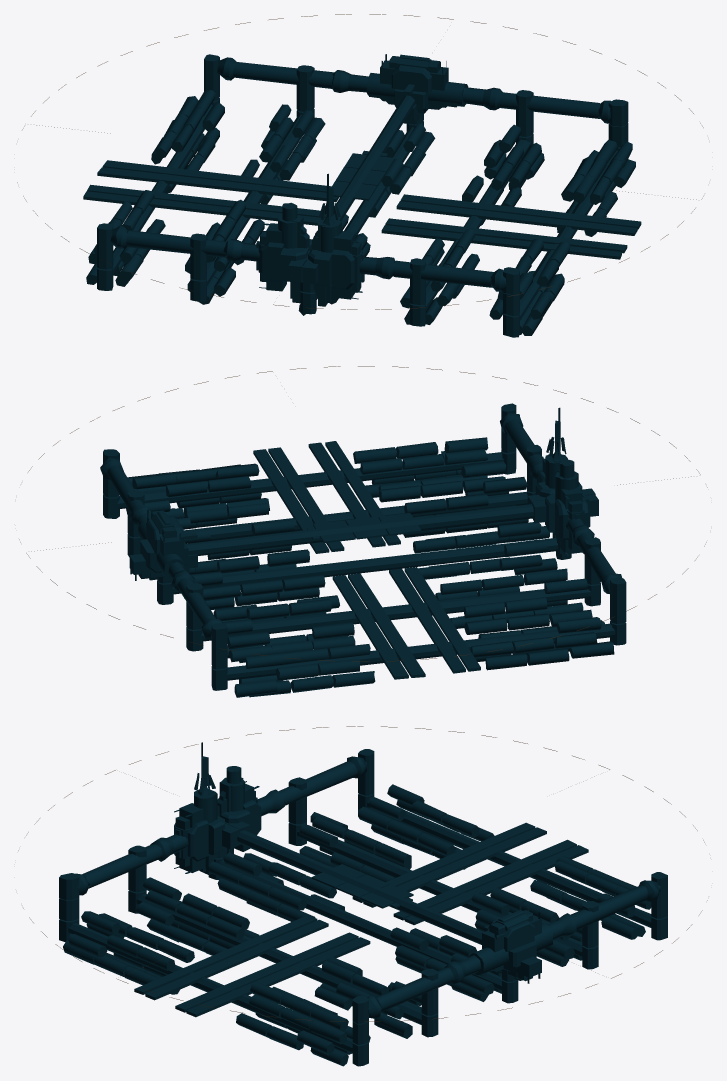
The model's file is CommArraySpaceStation.dae.
3 renders of one model, top to bottom at view 1: azimuth 30°, elevation 25°; view 2: azimuth 150°, elevation 25°; view 3: azimuth 270°, elevation 25°, orthographic.
Visible parts, largest first — view 1: satellite_storage1, pCylinder1; view 2: satellite_storage1, pCylinder1; view 3: satellite_storage1, pCylinder1.
Boxes of the visible parts, x1,y1,x2,y2 form: satellite_storage1: [83, 54, 641, 337]; pCylinder1: [17, 14, 703, 309]; satellite_storage1: [100, 403, 626, 697]; pCylinder1: [19, 366, 707, 661]; satellite_storage1: [59, 742, 667, 1066]; pCylinder1: [18, 726, 707, 1021].
Size of the model in its own units: 3 by 0.7109 by 3.
